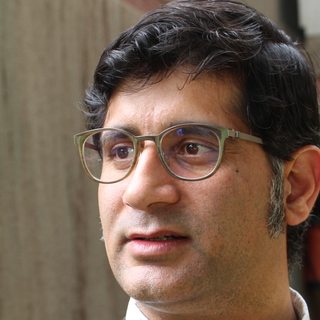eye: (172, 136, 214, 161), (104, 141, 140, 164)
